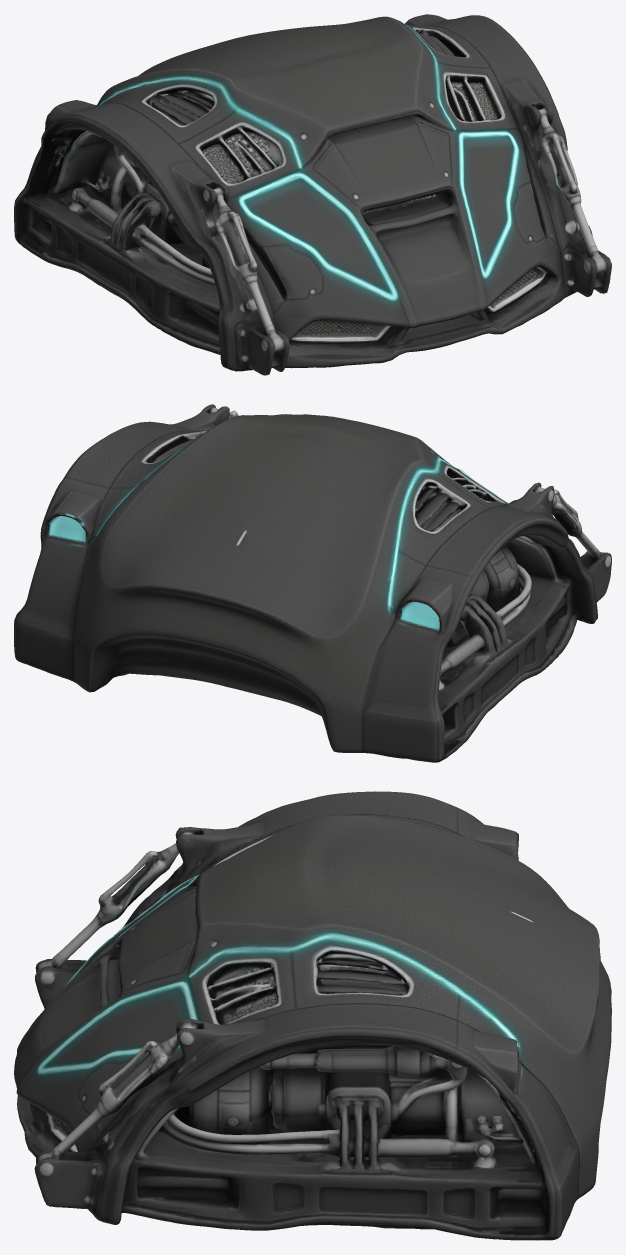
Rendered from tripo_convert_9e93ad92-146c-4be3-911e-dd036f57e797.fbx.
3 renders of one model, top to bottom at view 1: azimuth 30°, elevation 25°; view 2: azimuth 150°, elevation 25°; view 3: azimuth 270°, elevation 25°, orthographic. The views are drawn at different scales.
Parts seen in each view (by area): view 1: tripo_node_9e93ad92; view 2: tripo_node_9e93ad92; view 3: tripo_node_9e93ad92.
Boxes of the visible parts, <box> form: tripo_node_9e93ad92: <box>14,14,611,375</box>; tripo_node_9e93ad92: <box>14,404,611,762</box>; tripo_node_9e93ad92: <box>14,791,611,1240</box>.
Bounding box in the file's own units: 0.9776 × 0.4515 × 0.9709.
Materials: 1 (1 with a texture image).
